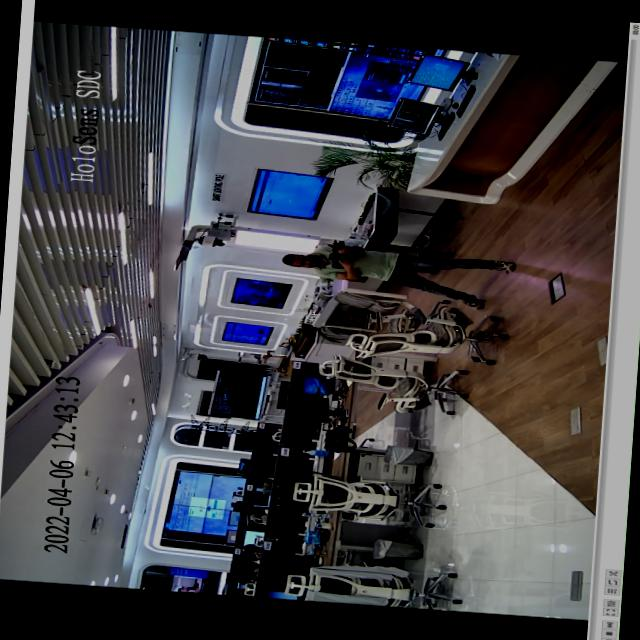long weapon: (325, 237, 357, 269)
